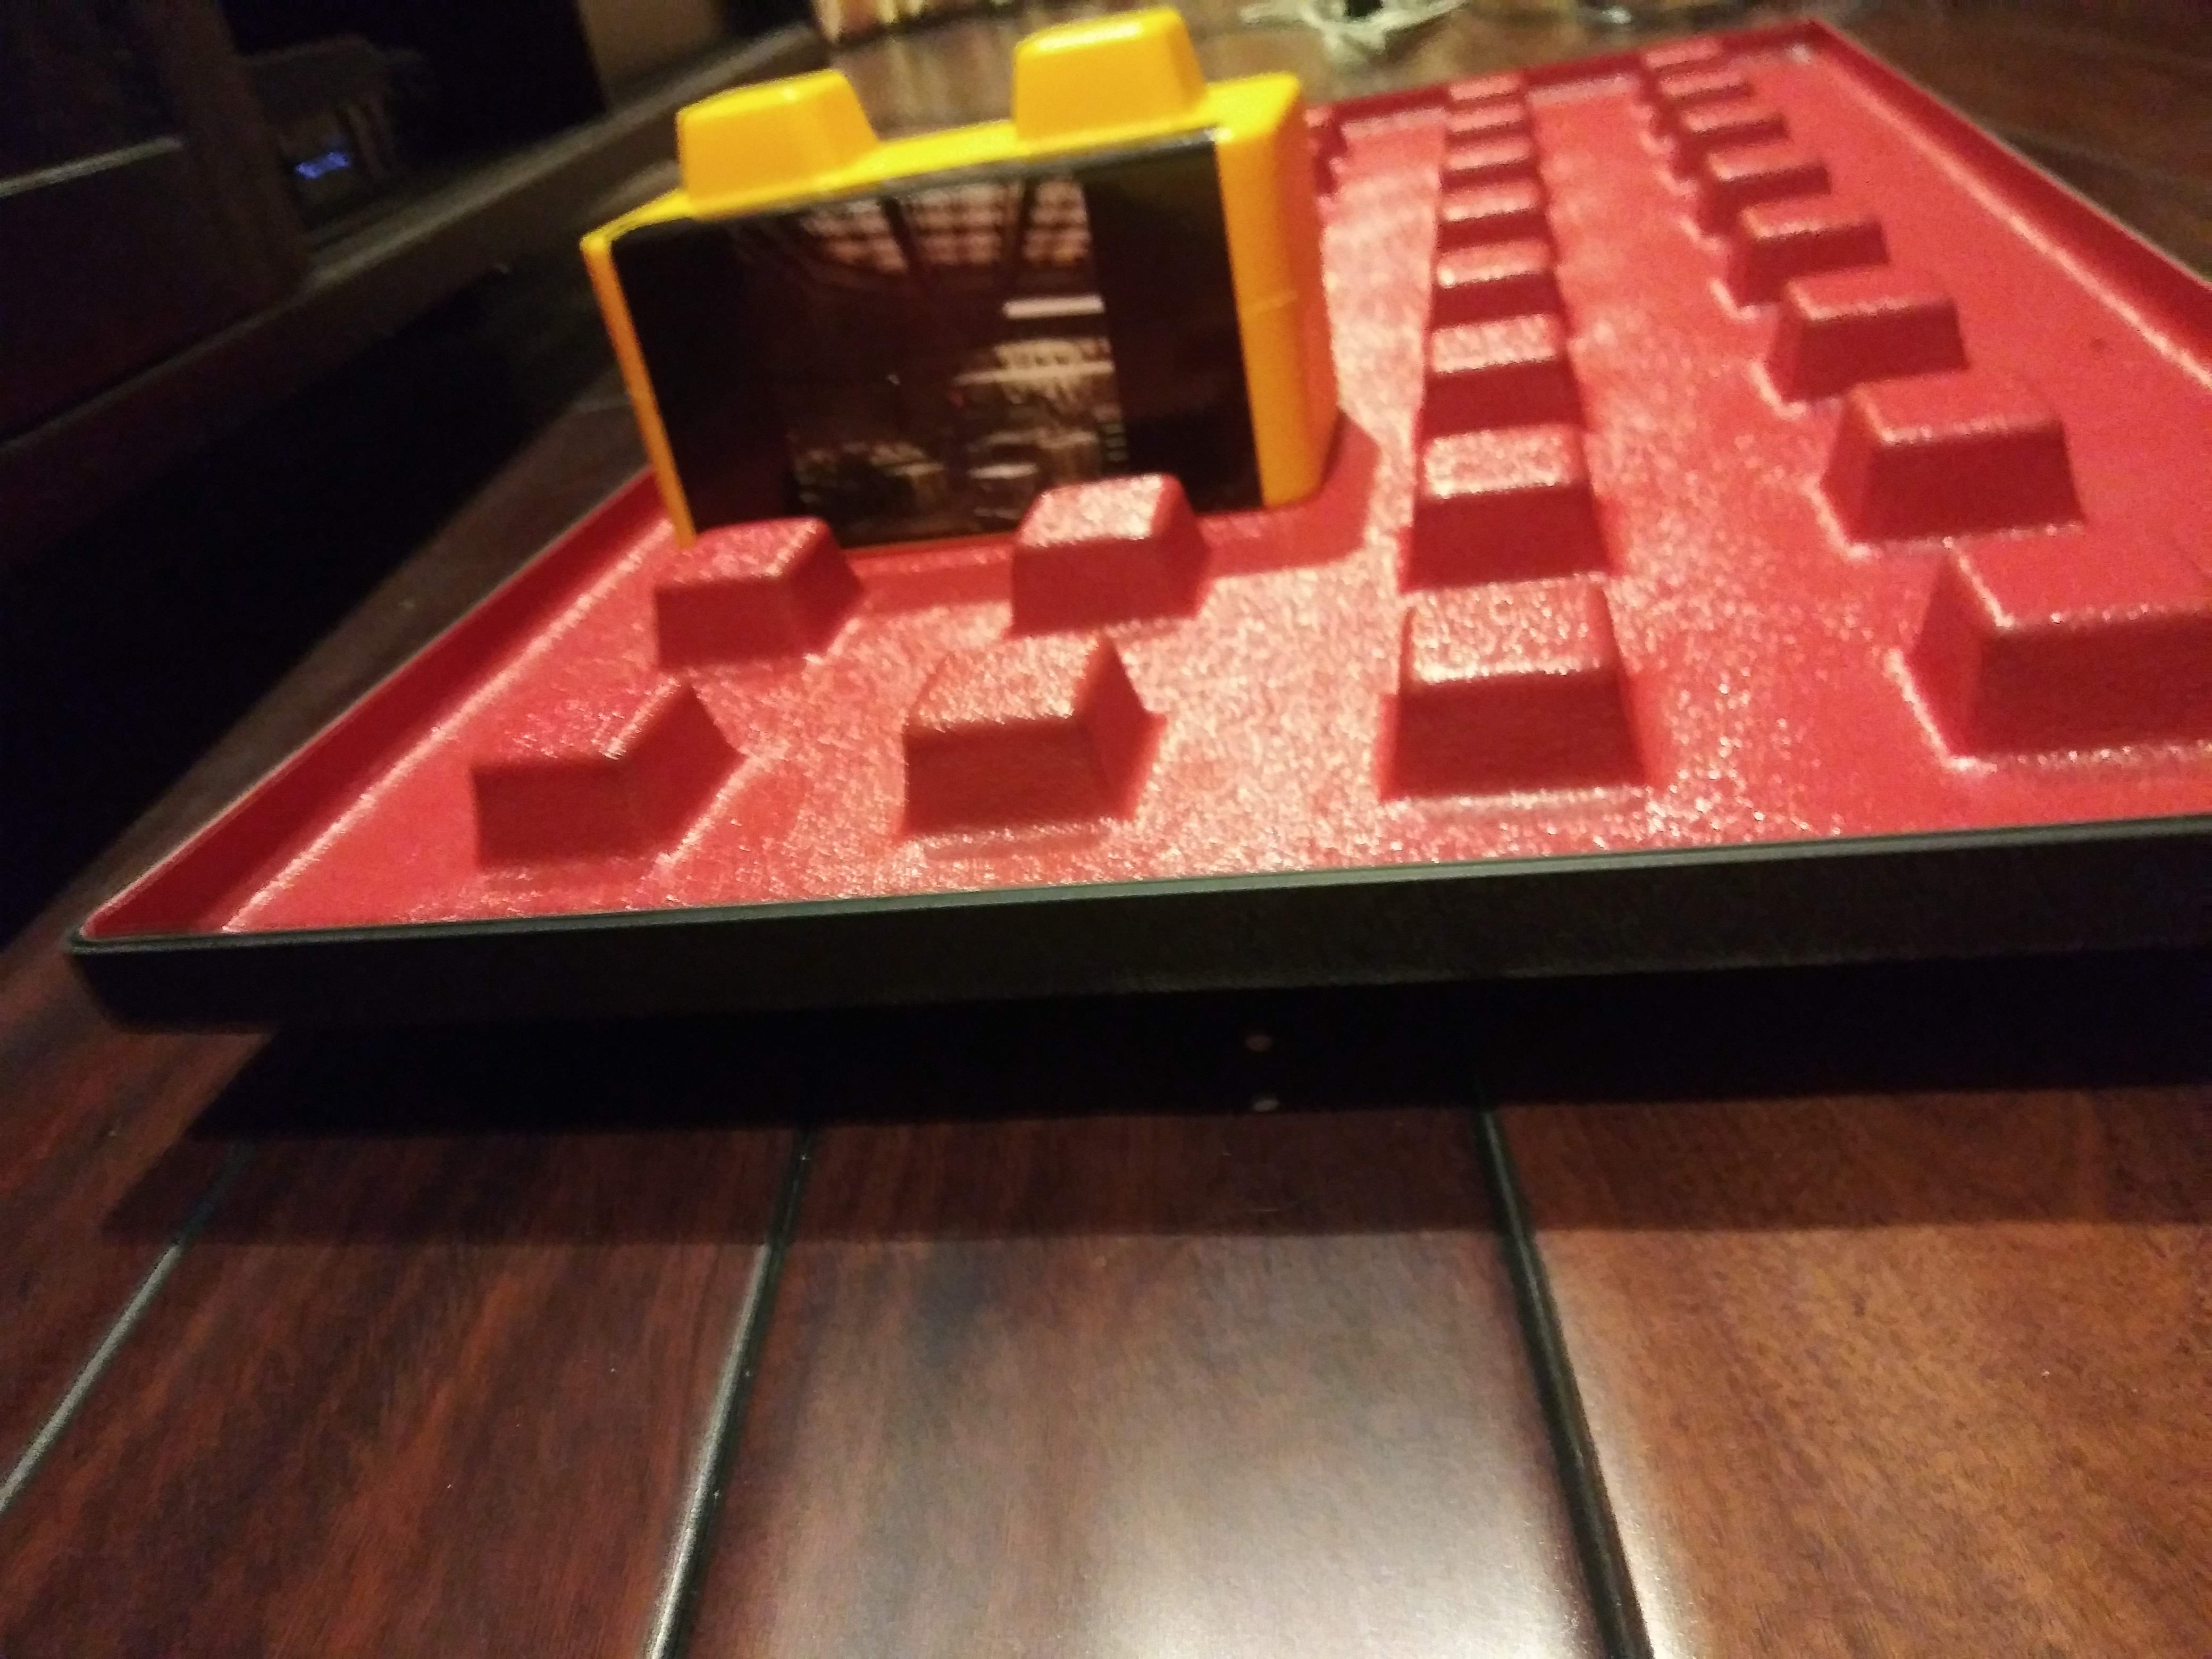red foundation: (552, 120, 2114, 945)
